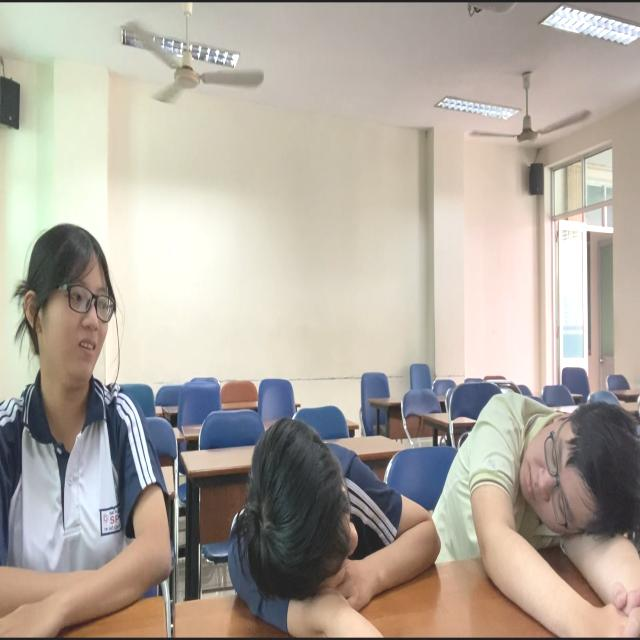sleep: (183, 413, 455, 640), (437, 384, 640, 640)
